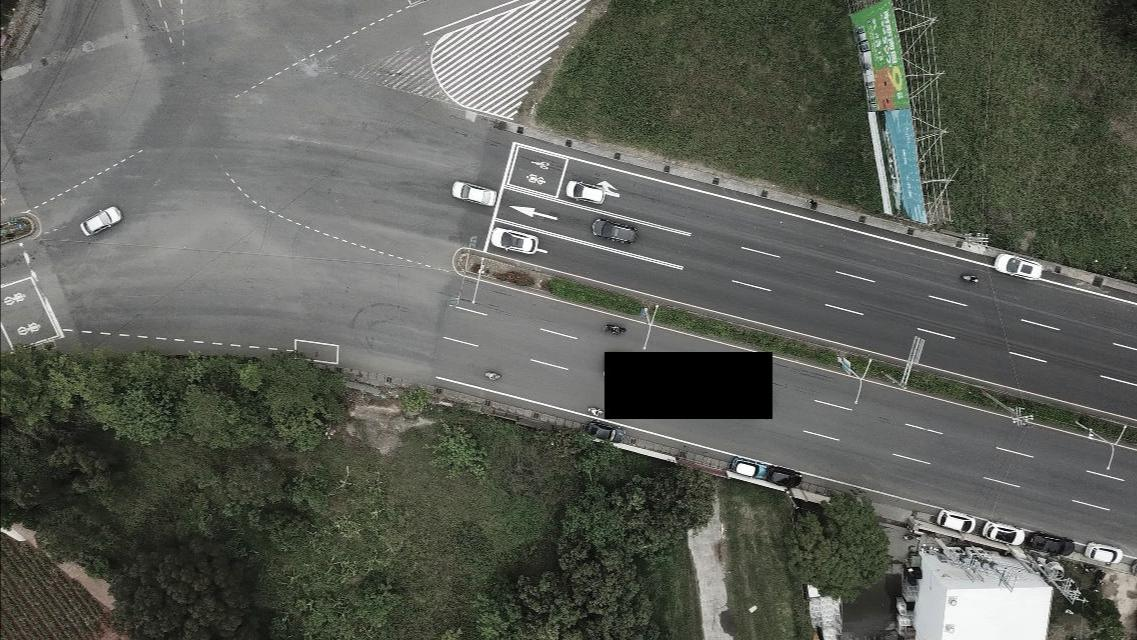vehicle: (995, 253, 1045, 282), (491, 227, 541, 256), (450, 182, 499, 209), (79, 206, 123, 236), (982, 520, 1027, 549), (584, 419, 628, 446), (1029, 533, 1076, 557), (593, 220, 638, 245), (938, 510, 976, 537), (566, 181, 606, 205), (1084, 542, 1124, 565), (766, 465, 802, 490), (733, 456, 767, 481)
